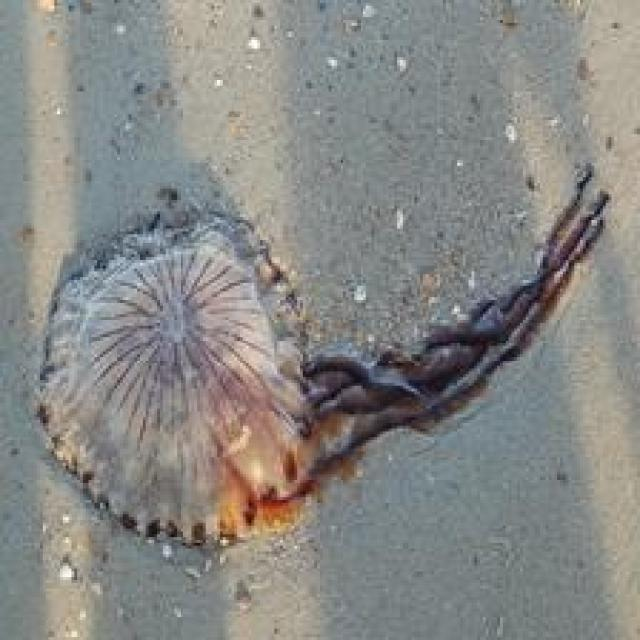Moon-jellyfish: (29, 160, 612, 549)
